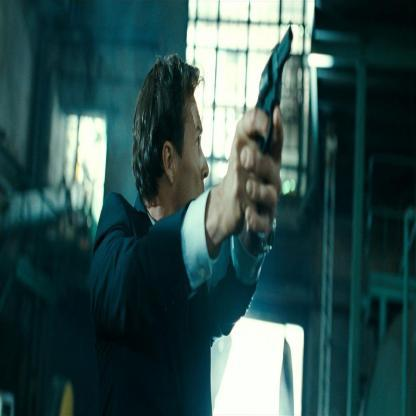gun: (251, 27, 295, 141)
